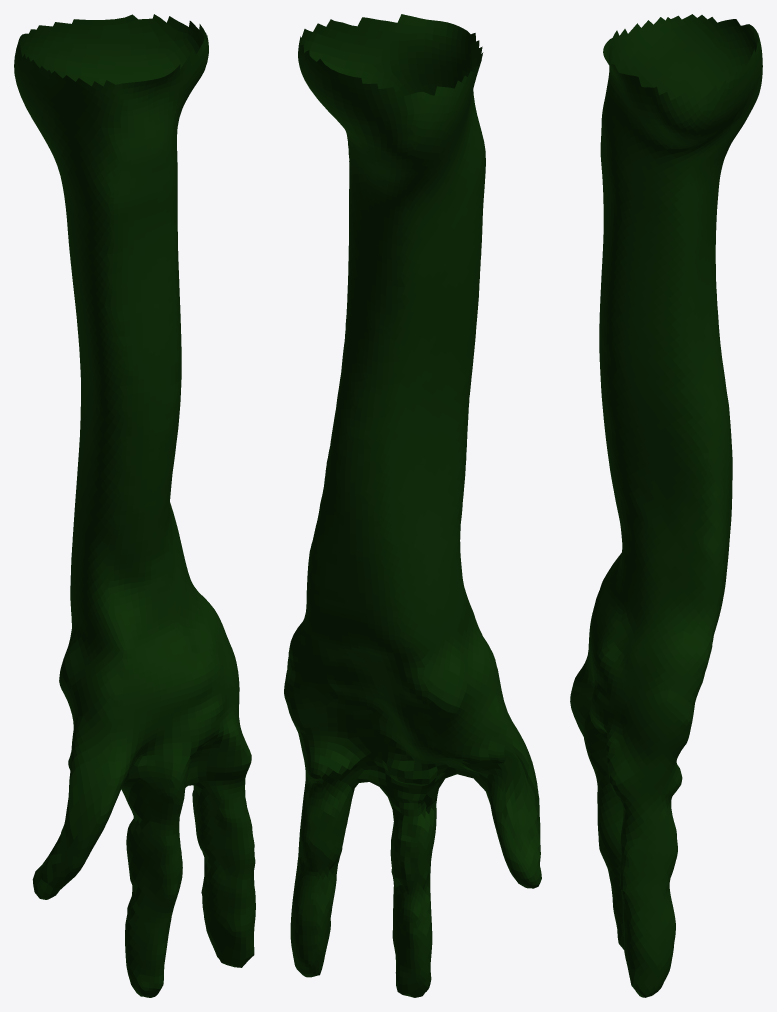
Rendered from lowerB.obj.
The picture shows the model from 3 angles, left to right: view 1: azimuth 30°, elevation 25°; view 2: azimuth 150°, elevation 25°; view 3: azimuth 270°, elevation 25°; orthographic projection. The views are drawn at different scales.
Parts seen in each view (by area): view 1: alien_11:alien; view 2: alien_11:alien; view 3: alien_11:alien.
Boxes of the visible parts, bbox=[...] form: alien_11:alien: bbox=[14, 14, 255, 997]; alien_11:alien: bbox=[284, 14, 541, 997]; alien_11:alien: bbox=[570, 14, 762, 997].
Size of the model in its own units: 0.5406 by 2.13 by 0.4128.
